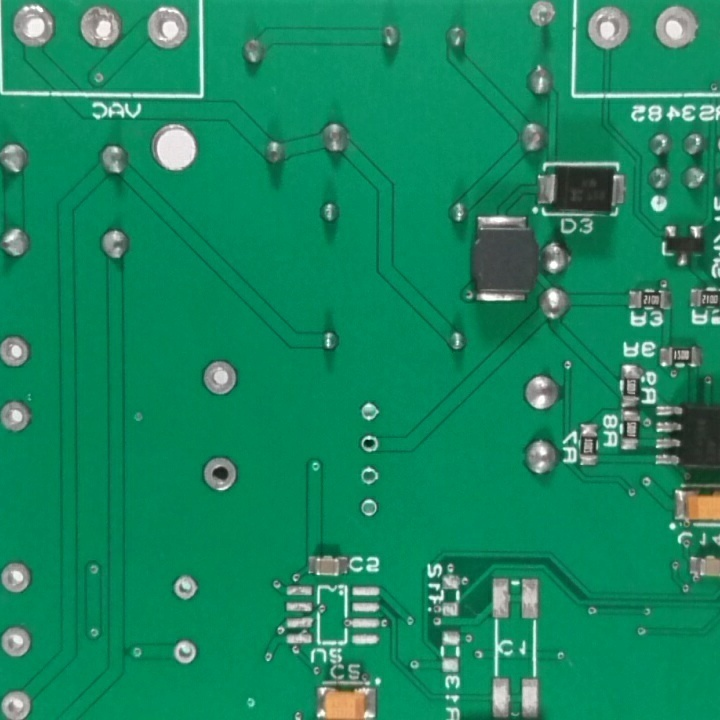F: (648, 6, 705, 54), (586, 5, 636, 58), (141, 6, 196, 53), (73, 3, 124, 51), (10, 4, 59, 49), (197, 358, 241, 400), (204, 453, 239, 495), (1, 620, 34, 664), (1, 399, 36, 437), (1, 334, 32, 371), (165, 573, 203, 603), (1, 560, 30, 598), (527, 1, 561, 33), (1, 686, 33, 720), (170, 638, 199, 666), (357, 463, 381, 489), (359, 433, 382, 457), (359, 400, 381, 424), (358, 499, 381, 521)
